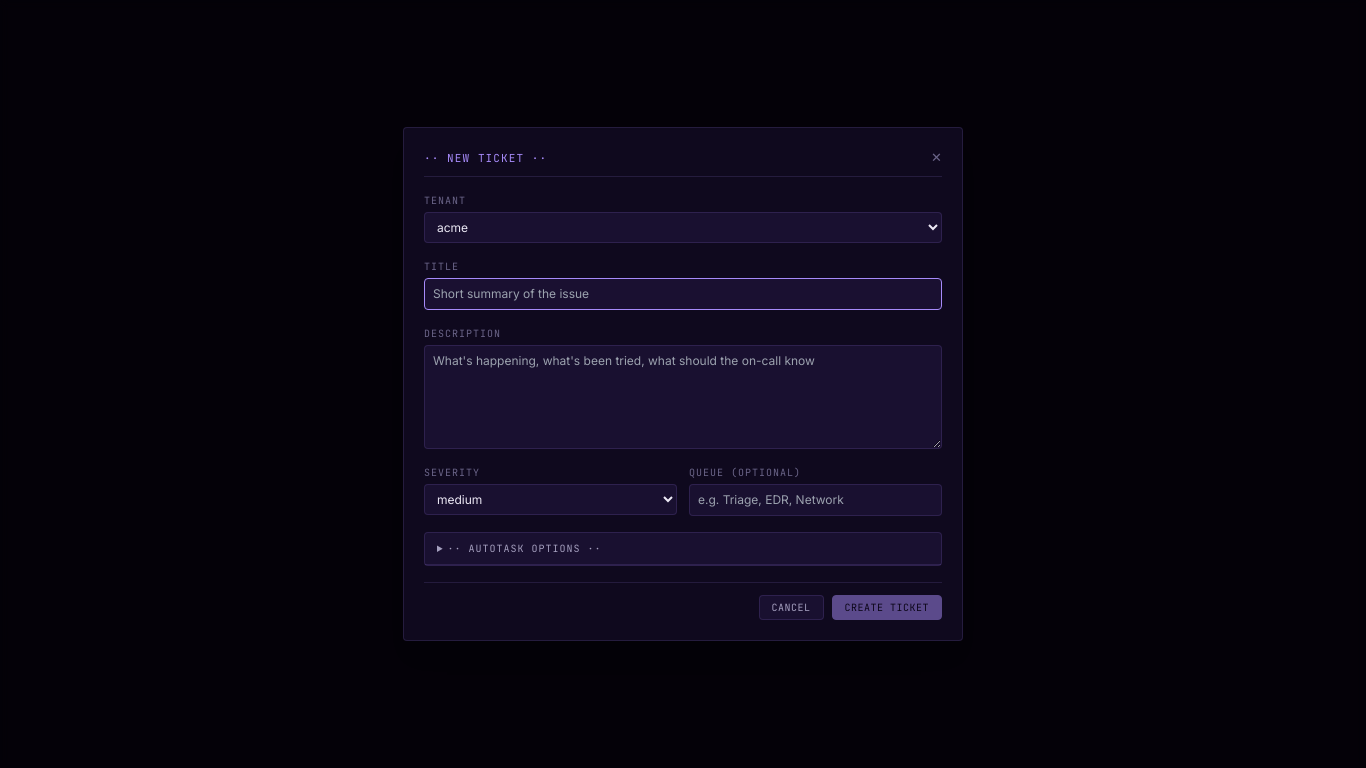
NewTicketModal › surfaces backend errors and keeps the form open
Type "test" into the field with placeholder "Short summary of the issue" at (683, 294), box [424, 278, 942, 310]
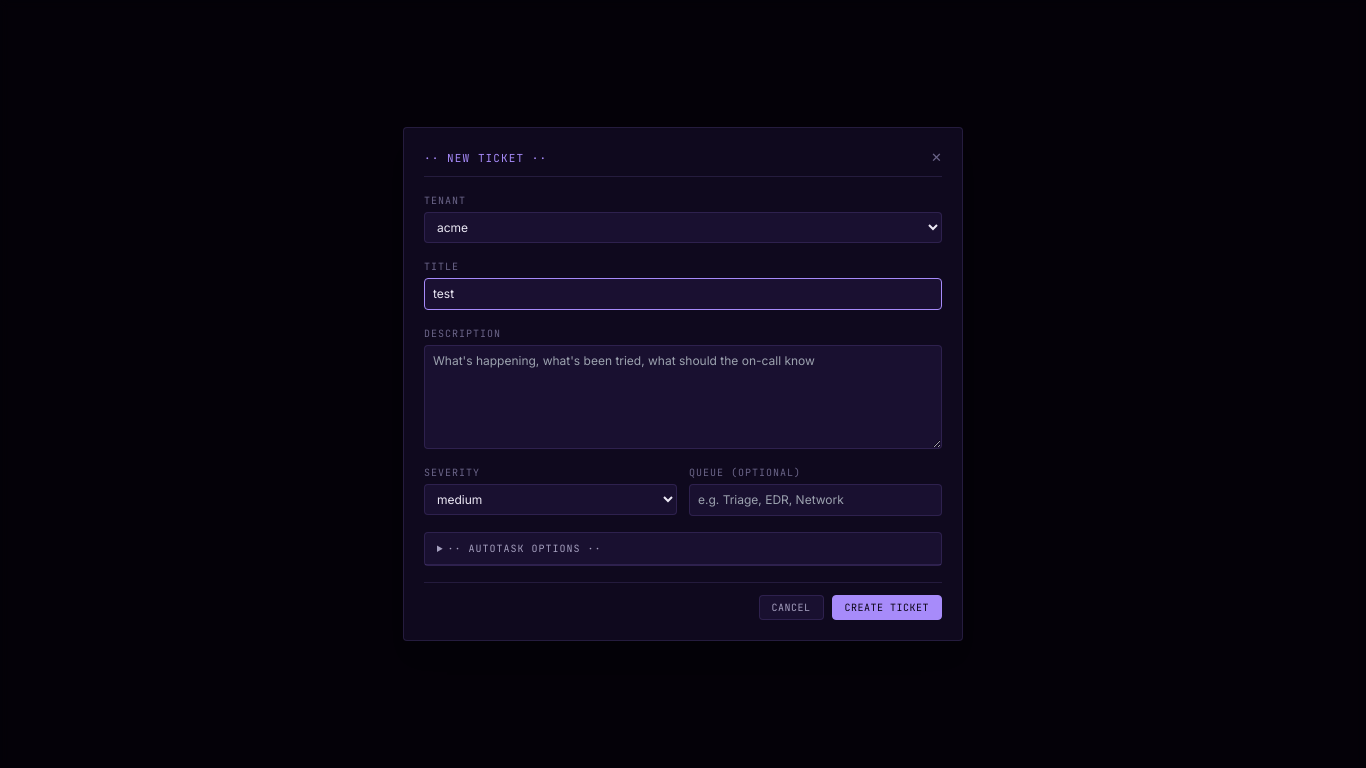
Click the button "create ticket" at (887, 607), box [832, 595, 942, 620]
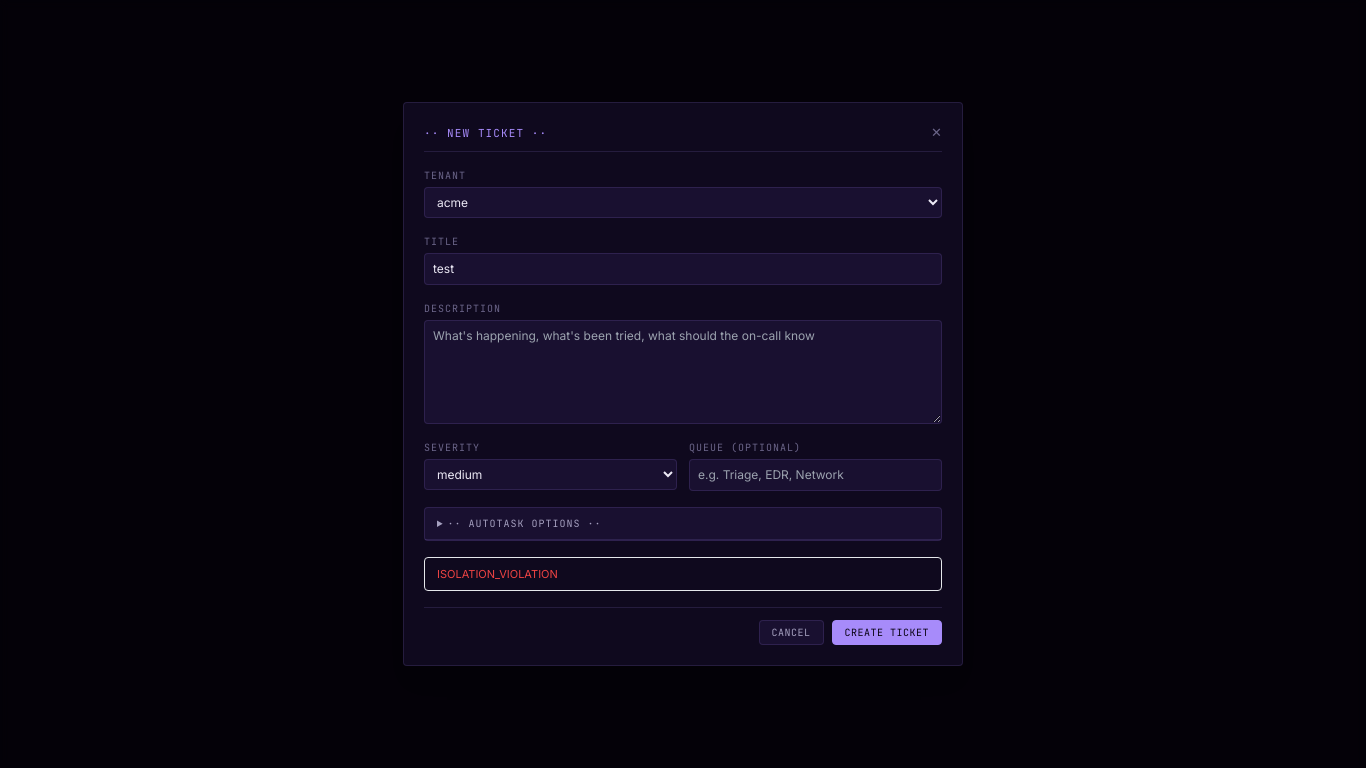
Result: the message reads "ISOLATION_VIOLATION" at [437, 566, 558, 580]
